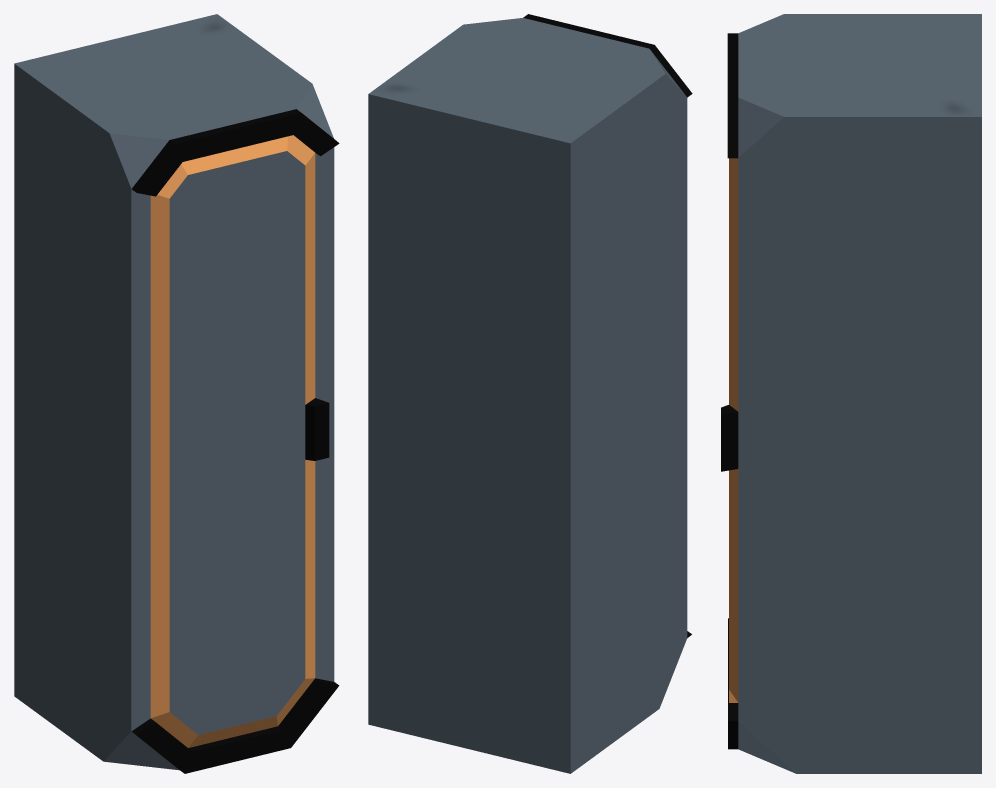
The model's file is locker.fbx.
The picture shows the model from 3 angles, left to right: view 1: azimuth 30°, elevation 25°; view 2: azimuth 150°, elevation 25°; view 3: azimuth 270°, elevation 25°; orthographic projection. The views are drawn at different scales.
Visible parts, largest first — view 1: Cube.002; view 2: Cube.002; view 3: Cube.002.
Part boxes in pixels (bbox=[...]): Cube.002: bbox=[14, 14, 339, 773]; Cube.002: bbox=[368, 14, 692, 773]; Cube.002: bbox=[721, 14, 981, 773].
Bounding box in the file's own units: 50 × 149 × 53.55.
